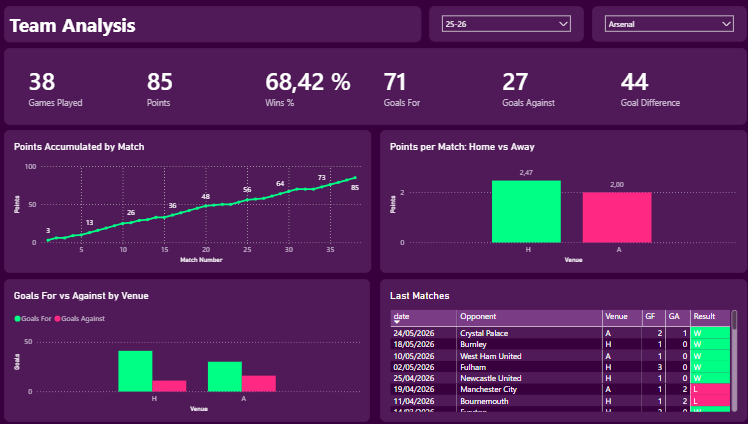

What the dashboard file says about the page in this screenshot:
{"tool":"powerbi","page":{"name":"Team Analysis","canvas":[1280,720],"ordinal":1},"visuals":[{"type":"textbox","box":[23.4,16.1,701,61],"z":0},{"type":"slicer","title":"Season","fields":{"Values":["matches.season"]},"box":[737.4,16.8,260.4,60.5],"z":1000},{"type":"slicer","title":"Season","fields":{"Values":["teams.team"]},"box":[1011.2,16.8,260.4,60.5],"z":2000},{"type":"cardVisual","fields":{"Data":["League_Overview_Measures.Games Played","League_Overview_Measures.Points","League_Overview_Measures.Wins %","League_Overview_Measures.Goals For","League_Overview_Measures.Goals Against","League_Overview_Measures.Goal Difference"]},"box":[23.5,87.3,1248.1,129.3],"z":3000},{"type":"lineChart","title":"Points Accumulated by Match","fields":{"Y":["_Measures.Cumulative Points"],"Category":["TeamMatches.Match Number"]},"box":[23.3,225,616.7,240],"z":4000},{"type":"clusteredColumnChart","title":"Points per Match: Home vs Away","fields":{"Category":["TeamMatches.venue"],"Y":["_Measures.Points per Match"]},"box":[655,225,616.7,240],"z":5000},{"type":"clusteredColumnChart","title":"Goals For vs Against by Venue","fields":{"Category":["TeamMatches.venue"],"Y":["_Measures.Goals For","_Measures.Goals Against"]},"box":[23.3,475,615,240],"z":6000},{"type":"tableEx","title":"Last Matches","fields":{"Values":["TeamMatches.date","TeamMatches.Opponent","TeamMatches.venue","TeamMatches.gf","TeamMatches.ga","TeamMatches.Result"]},"box":[655,475,616.7,240],"z":7000}]}

Visuals, with their boxes in screenshot pixels (x1, y1, x2, y2), scaled from the page's 1280x720 canvas onto the 748x424 screenshot:
textbox: box(14, 9, 423, 45)
"Season" slicer: box(431, 10, 583, 46)
"Season" slicer: box(591, 10, 743, 46)
cardVisual - League_Overview_Measures.Games Played x League_Overview_Measures.Points: box(14, 51, 743, 128)
"Points Accumulated by Match" lineChart: box(14, 132, 374, 274)
"Points per Match: Home vs Away" clusteredColumnChart: box(383, 132, 743, 274)
"Goals For vs Against by Venue" clusteredColumnChart: box(14, 280, 373, 421)
"Last Matches" tableEx: box(383, 280, 743, 421)
